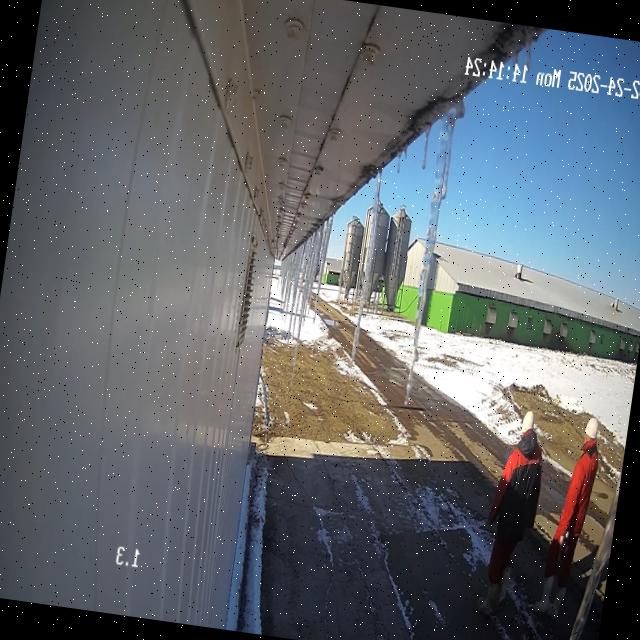Red uniform: (478, 411, 542, 615), (535, 418, 598, 619)
